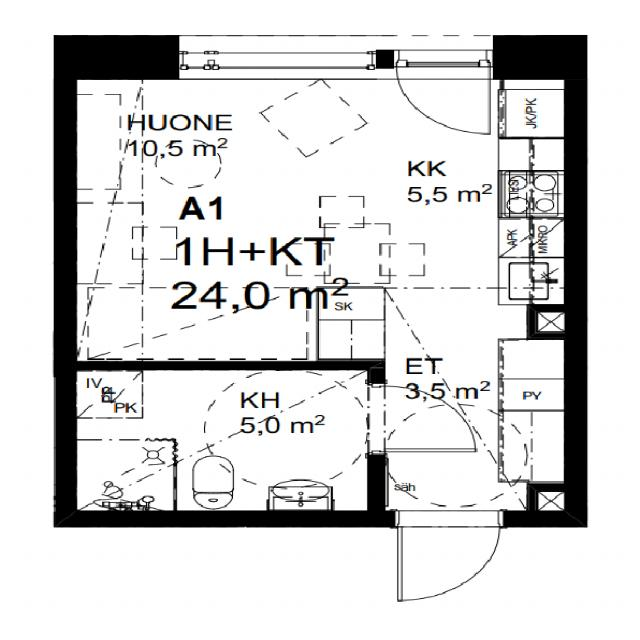door: (399, 36, 492, 146), (398, 512, 499, 600), (369, 382, 481, 452)
